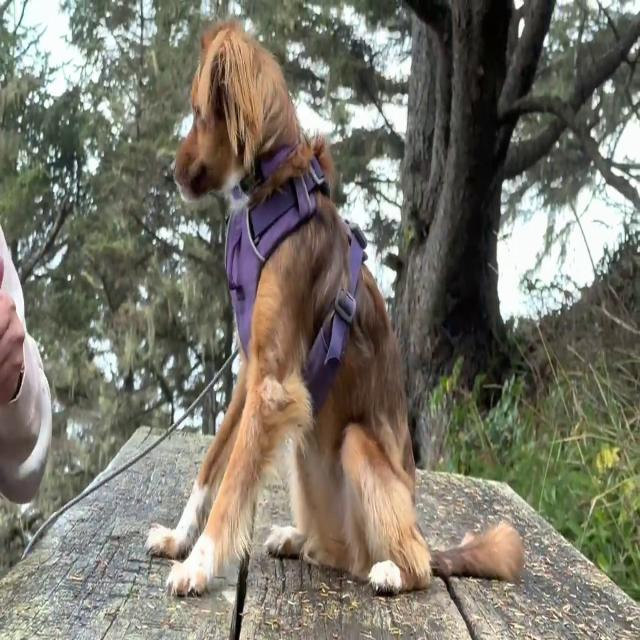Dog: (143, 24, 526, 594)
